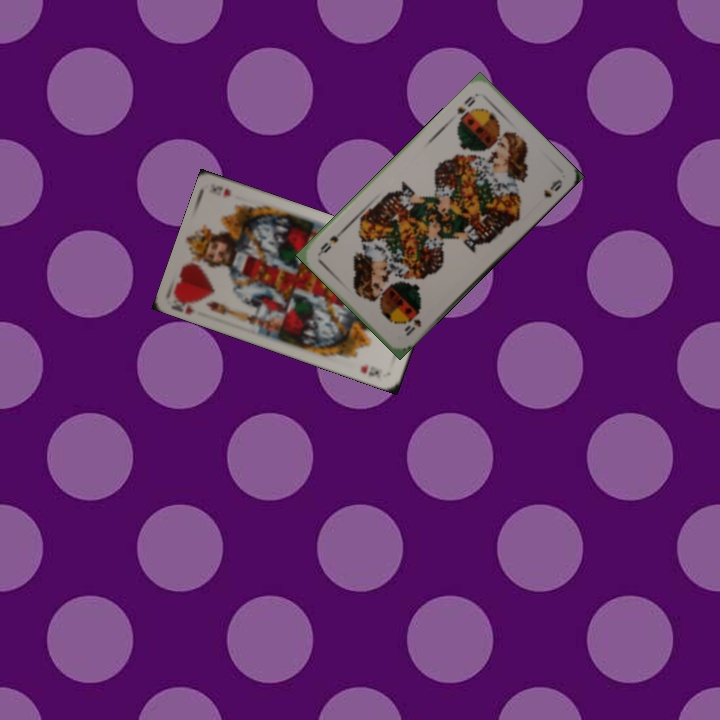HK: (168, 300, 198, 317)
SO: (400, 308, 424, 339), (453, 92, 478, 117)
